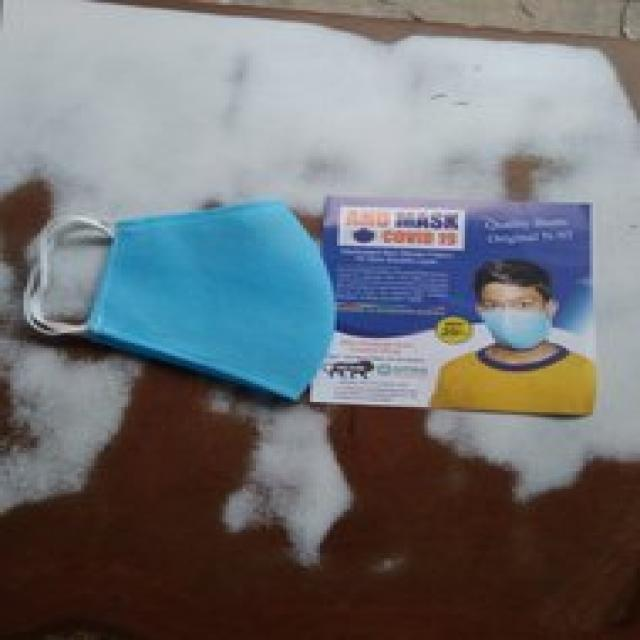non-organic waste: (24, 195, 347, 412)
